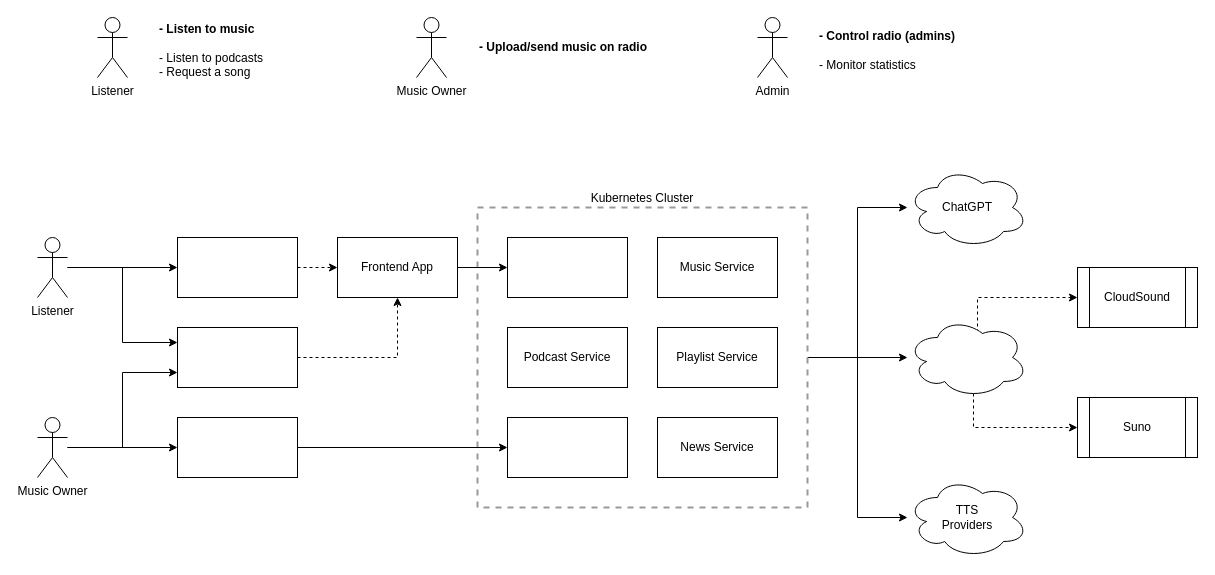
Image size: 1215x575. Some labels were removed from this diagram. Here are the shapes that lost their labels. From the top down, the centre of each, then its label:
At [237,267]: "Telegram App".
At [567,267]: "Radio Service".
At [237,357]: "Web App".
At [967,357]: "Music Providers".
At [237,447]: "Telegram Bot".
At [567,447]: "Telegram Bot Service".
